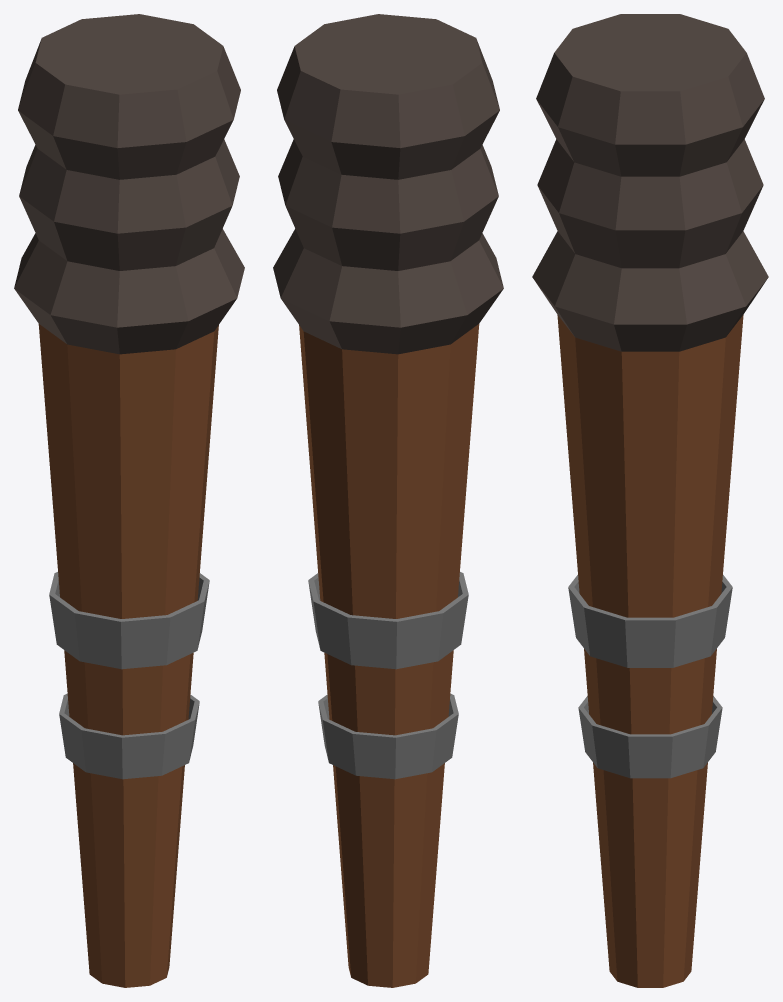
The model's file is torch.fbx.
3 renders of one model, left to right at view 1: azimuth 30°, elevation 25°; view 2: azimuth 150°, elevation 25°; view 3: azimuth 270°, elevation 25°, orthographic.
Visible parts, largest first — view 1: Circle, Circle.001, Circle.002; view 2: Circle, Circle.001, Circle.002; view 3: Circle, Circle.001, Circle.002.
Boxes of the visible parts, x1,y1,x2,y2 form: Circle: (38,324,218,987); Circle.001: (14,14,244,354); Circle.002: (49,572,209,779); Circle: (299,324,479,987); Circle.001: (273,14,503,354); Circle.002: (308,572,468,779); Circle: (557,315,743,987); Circle.001: (532,14,768,351); Circle.002: (568,575,732,778).
Bounding box in the file's own units: 93.11 × 419 × 97.91.
